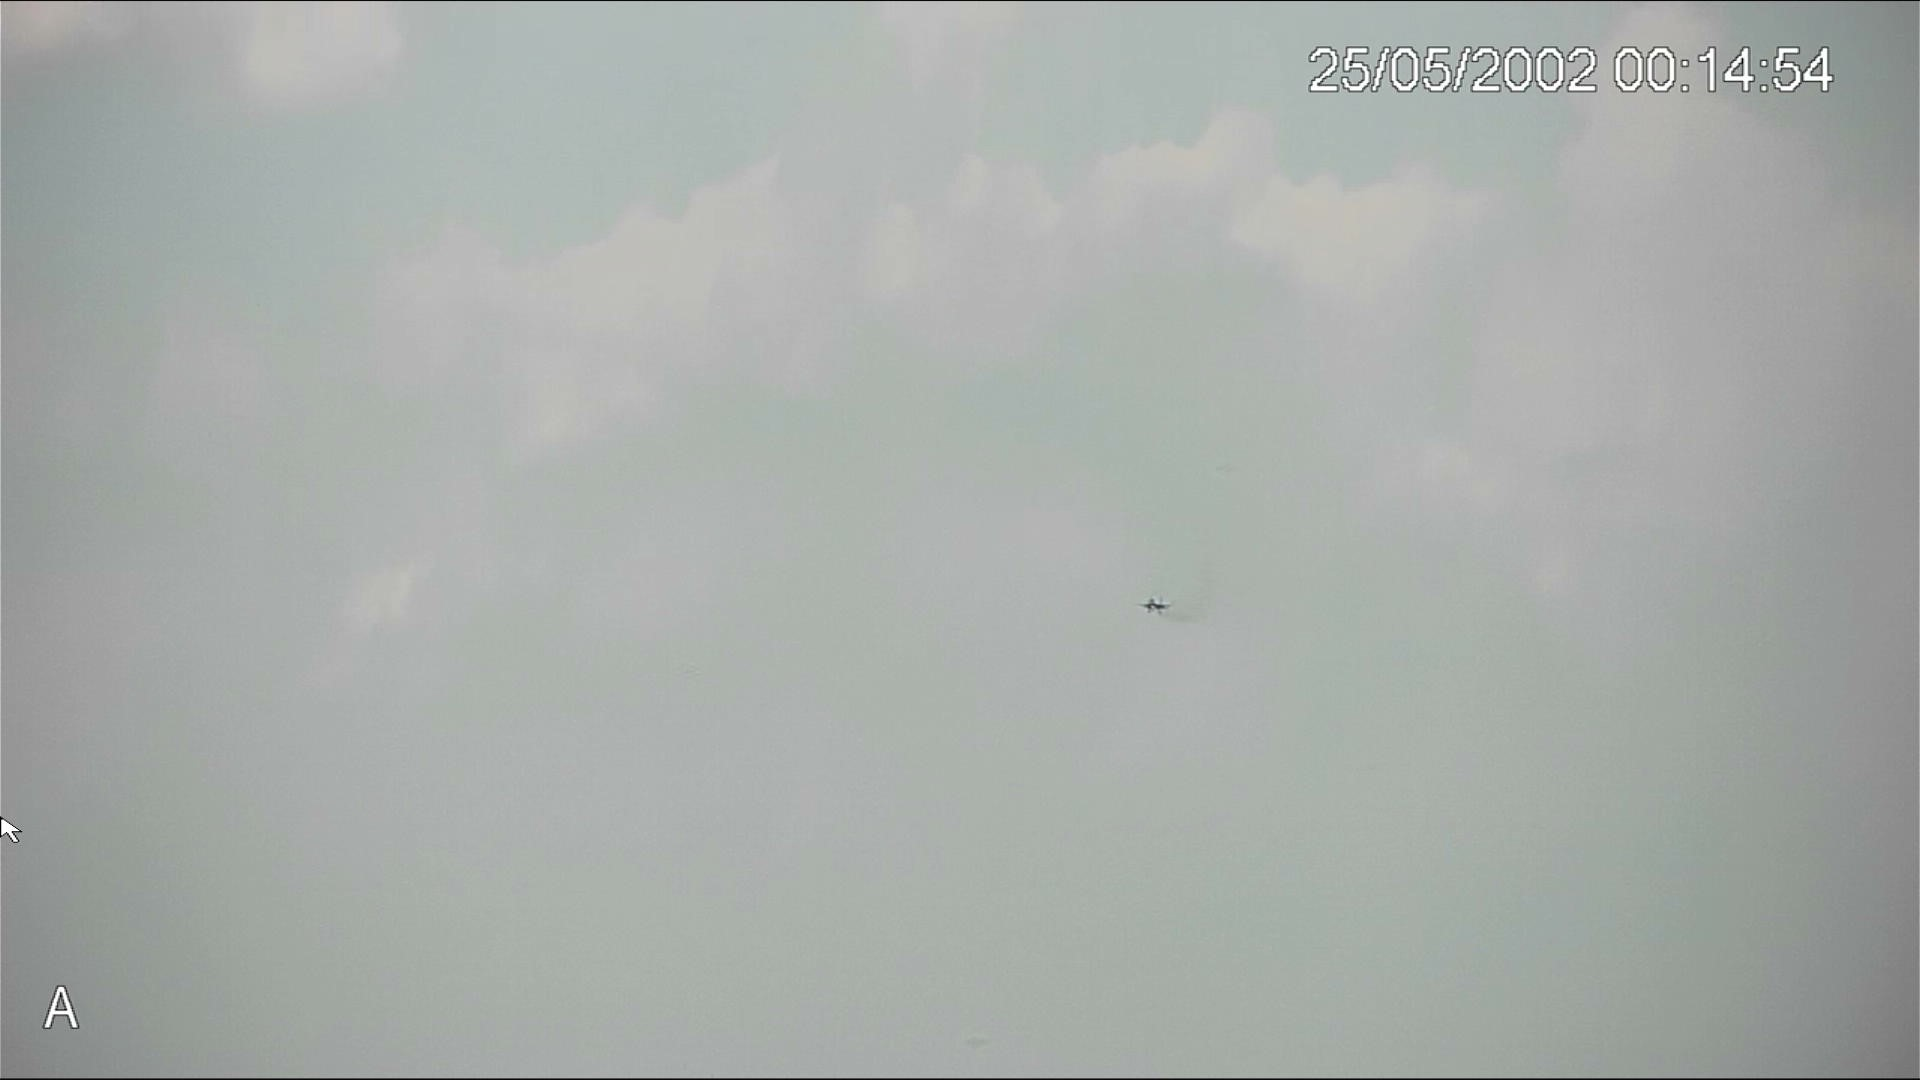SU_30: (1138, 593, 1171, 615)
